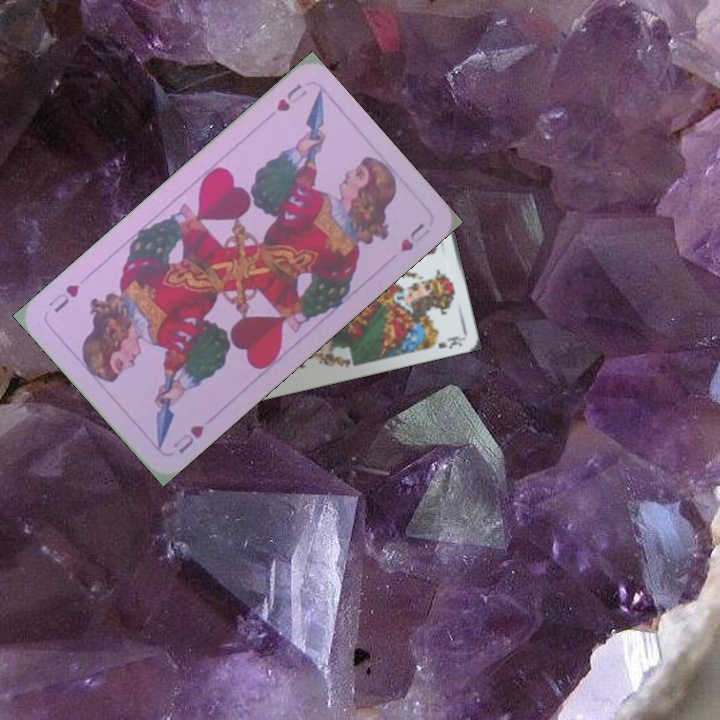HU: (169, 420, 207, 457), (272, 80, 310, 115)
